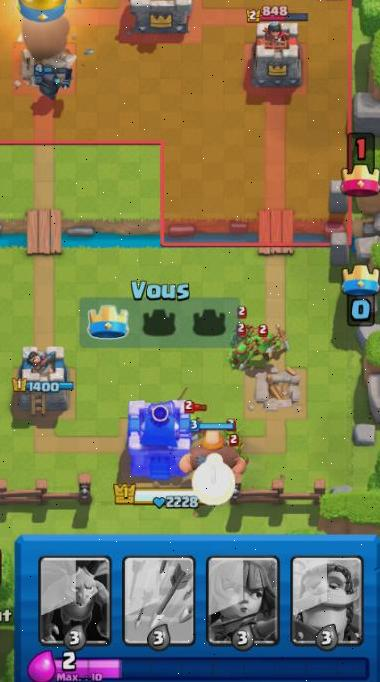enemy_spear_goblins: (248, 337, 277, 366), (227, 338, 254, 368), (267, 325, 291, 355), (234, 305, 257, 334)
player_giant: (178, 425, 250, 484)
player_mini_pekka: (22, 57, 79, 103)
